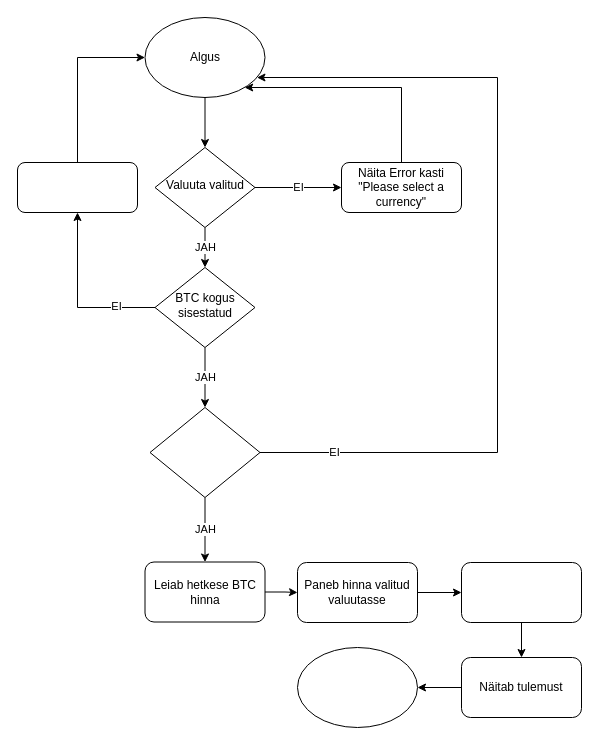
Image size: 599x745. Some labels were removed from this diagram. The shapes that lost their labels are listed below. From the top down, each one's centre as x and y in pixels, then its label:
pixel 77 187: Näita Error kasti "Please enter a BTC amount"
pixel 204 452: Nupp "Get Rates" vajutada
pixel 521 592: Korrutab sisestatud BTC kogusega
pixel 357 687: Lõpp
